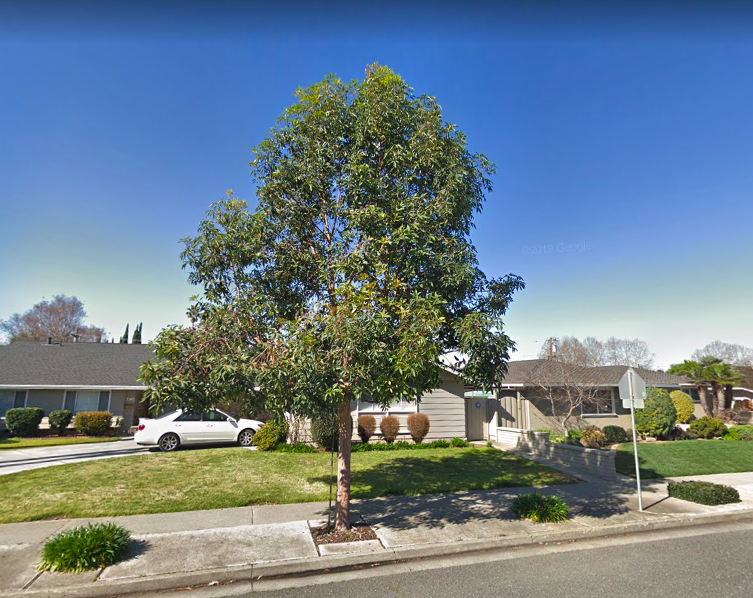tree: (175, 58, 526, 535)
